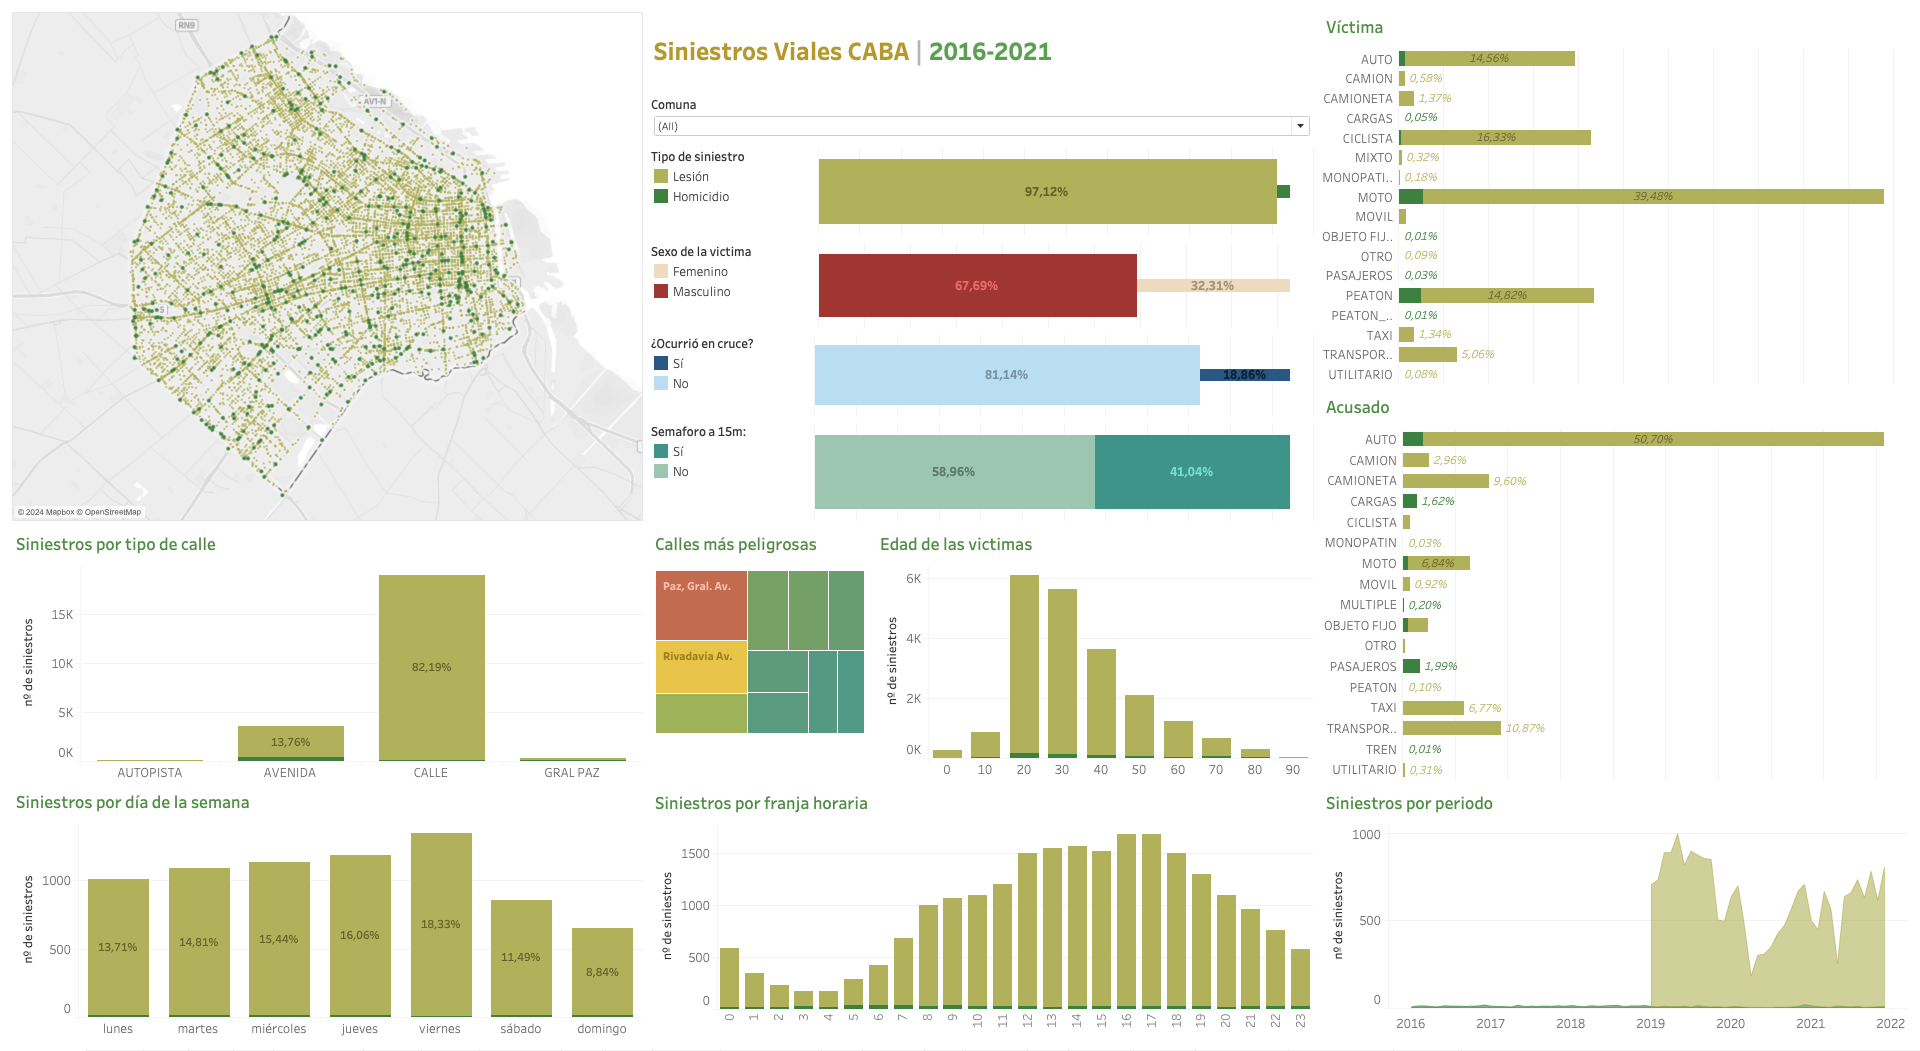

Layout of this report page (visuals, bound fields, positions):
{"tool":"tableau","page":{"name":"Tablero 1","canvas":[1000,1000],"units":"permille","ordinal":1},"visuals":[{"type":"worksheet","title":"mapa","mark":"Automatic","rows":["Latitud"],"cols":["Longitud"],"box":[5.1,9.1,332.6,490.9]},{"type":"title","box":[337.6,9.1,348.5,80.3]},{"type":"worksheet","title":"victima","mark":"Automatic","rows":["Victima"],"cols":["Id"],"box":[686.1,9.1,308.8,360.9]},{"type":"filter","title":"mapa","param":"[federated.0k5duec1688vot1citf2f15isno2].[none:Comuna:nk]","box":[337.6,89.3,348.5,48.8]},{"type":"legend","title":"datset","param":"[federated.0k5duec1688vot1citf2f15isno2].[none:Dataset:nk]","box":[337.6,138.1,86.4,89.9]},{"type":"worksheet","title":"datset","mark":"Automatic","cols":["Id"],"box":[424,138.1,262.1,89.9]},{"type":"legend","title":"sexo","param":"[federated.0k5duec1688vot1citf2f15isno2].[none:Sexo:nk]","box":[337.6,228,86.4,87.4]},{"type":"worksheet","title":"sexo","mark":"Automatic","cols":["Id"],"box":[424,228,262.1,87.4]},{"type":"legend","title":"cruce","param":"[federated.0k5duec1688vot1citf2f15isno2].[none:Cruce:nk]","box":[337.6,315.4,84.4,84]},{"type":"worksheet","title":"cruce","mark":"Automatic","cols":["Id"],"box":[422.1,315.4,264.1,84]},{"type":"worksheet","title":"acusado","mark":"Automatic","rows":["Acusado"],"cols":["Id"],"box":[686.1,370,308.8,375.7]},{"type":"legend","title":"semaforo","param":"[federated.0k5duec1688vot1citf2f15isno2].[none:semaforo_15m:nk]","box":[337.6,399.4,84.3,101.1]},{"type":"worksheet","title":"semaforo","mark":"Automatic","cols":["Id"],"box":[421.9,399.4,264.3,101.1]},{"type":"worksheet","title":"tipo de calle","mark":"Automatic","rows":["Id"],"cols":["Tipo_Calle"],"box":[5.1,500,332.6,245.5]},{"type":"worksheet","title":"callespeligrosas","mark":"Automatic","box":[337.6,500.6,143,245.2]},{"type":"worksheet","title":"edad","mark":"Automatic","rows":["Id"],"cols":["Edad (bin)"],"box":[480.6,500.6,205.5,245.2]},{"type":"worksheet","title":"siniestrosxdia","mark":"Bar","rows":["Id"],"cols":["Fecha"],"box":[5.1,745.5,332.6,245.5]},{"type":"worksheet","title":"franja horaria","mark":"Automatic","rows":["Id"],"cols":["Franja_Hora"],"box":[337.6,745.7,348.5,245.2]},{"type":"worksheet","title":"siniestros/mes","mark":"Area","rows":["Id"],"cols":["Fecha"],"box":[686.1,745.7,308.8,245.2]}]}

Visuals, with their boxes on the dashboard's canvas, which has no fixed pixel size, in thousandths of its width and height (x1, y1, x2, y2). These are canvas units, not pixel positions in the 1920x1051 screenshot, which may show the page scaled, cropped or inside an application window:
"mapa" worksheet: box=[5, 9, 338, 500]
title: box=[338, 9, 686, 89]
"victima" worksheet: box=[686, 9, 995, 370]
"mapa" filter: box=[338, 89, 686, 138]
"datset" legend: box=[338, 138, 424, 228]
"datset" worksheet: box=[424, 138, 686, 228]
"sexo" legend: box=[338, 228, 424, 315]
"sexo" worksheet: box=[424, 228, 686, 315]
"cruce" legend: box=[338, 315, 422, 399]
"cruce" worksheet: box=[422, 315, 686, 399]
"acusado" worksheet: box=[686, 370, 995, 746]
"semaforo" legend: box=[338, 399, 422, 500]
"semaforo" worksheet: box=[422, 399, 686, 500]
"tipo de calle" worksheet: box=[5, 500, 338, 746]
"callespeligrosas" worksheet: box=[338, 501, 481, 746]
"edad" worksheet: box=[481, 501, 686, 746]
"siniestrosxdia" worksheet (Bar marks): box=[5, 746, 338, 991]
"franja horaria" worksheet: box=[338, 746, 686, 991]
"siniestros/mes" worksheet (Area marks): box=[686, 746, 995, 991]
